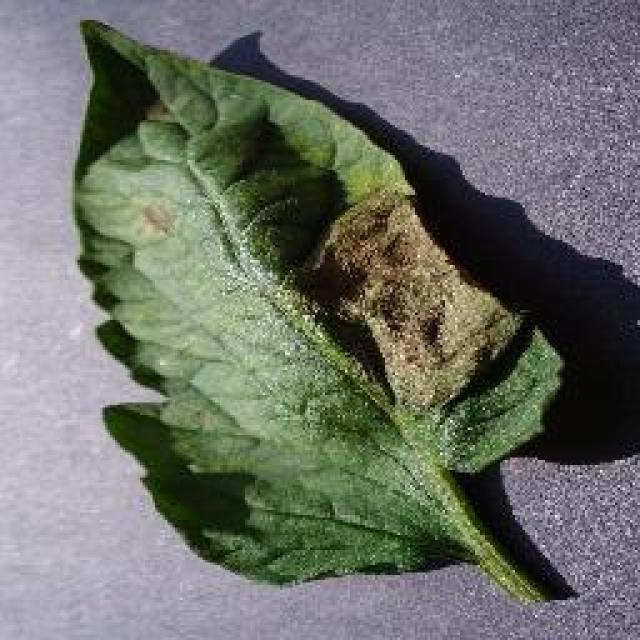Tomato Late Blight: (223, 103, 490, 570)
